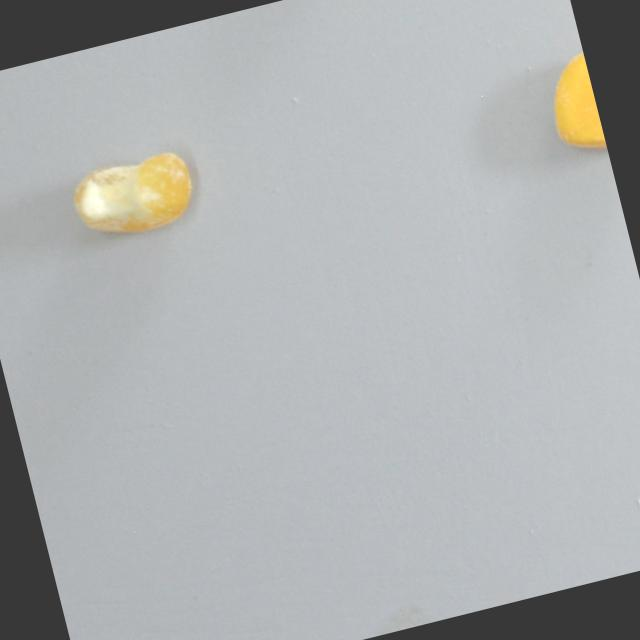pelicula: (63, 143, 202, 246), (537, 49, 607, 160)
